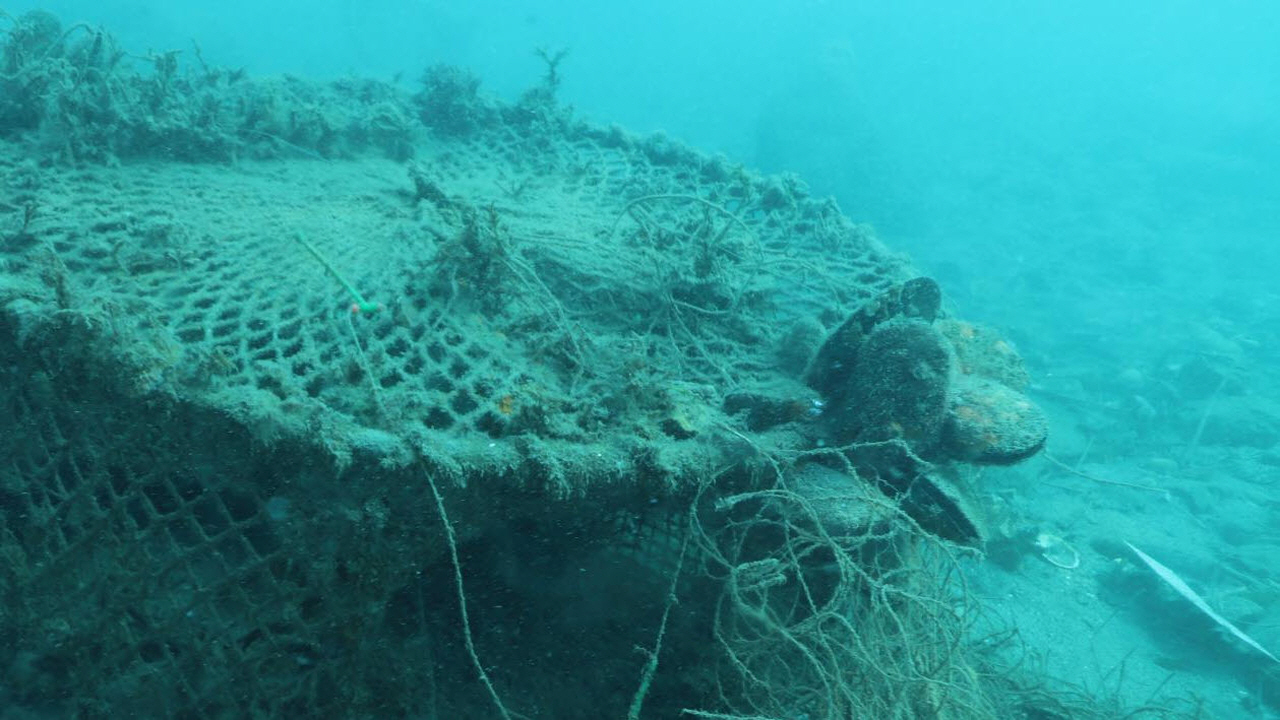circular fish trap: (0, 97, 911, 720)
